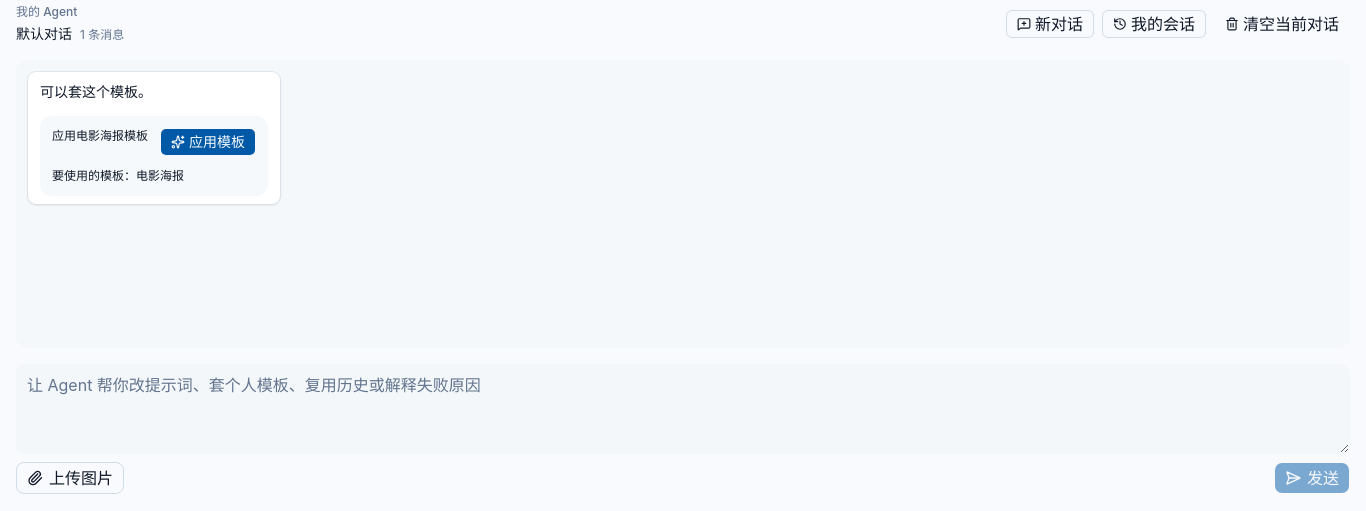
Test: AgentChatPanel › applies a template action after confirmation
Click the button "应用模板" at x=208, y=142, box [160,128,256,156]
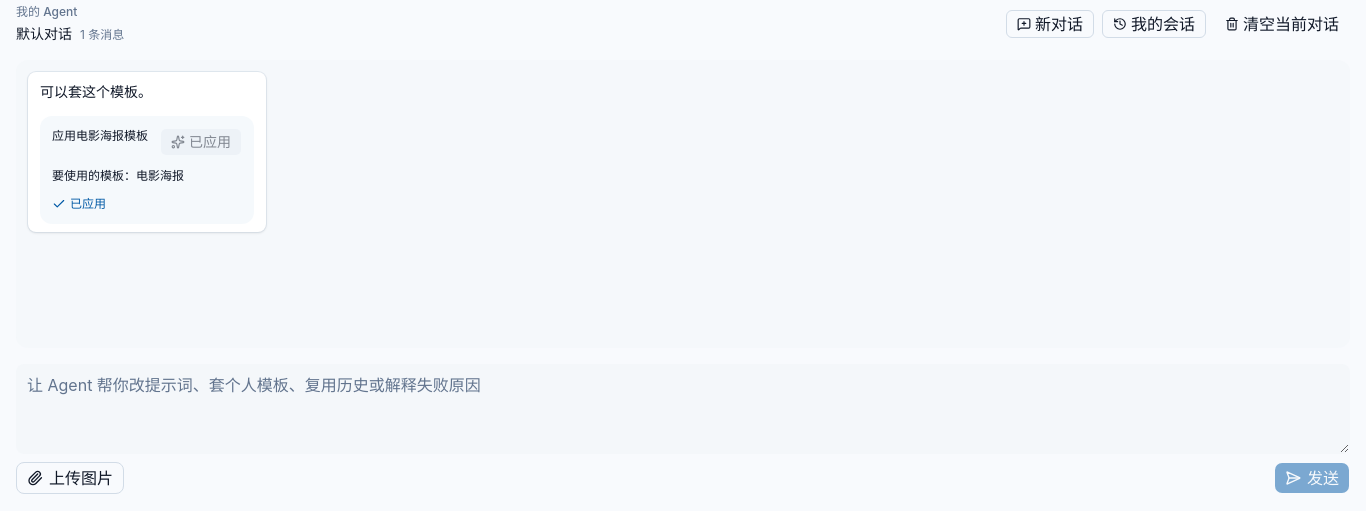
Now the button "已应用" is shown, box [160,128,242,156]
